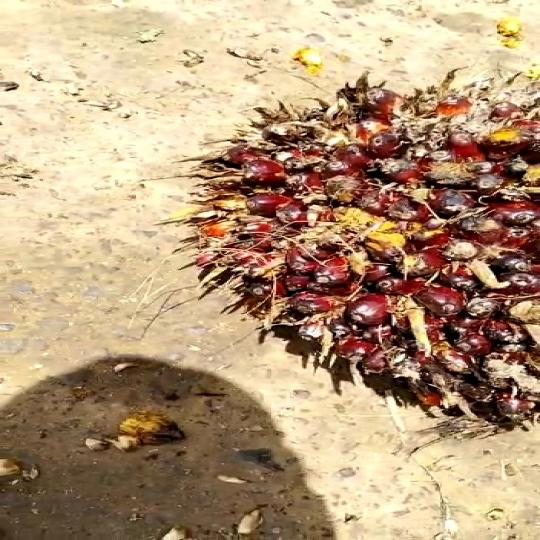masak: (166, 67, 540, 432)
